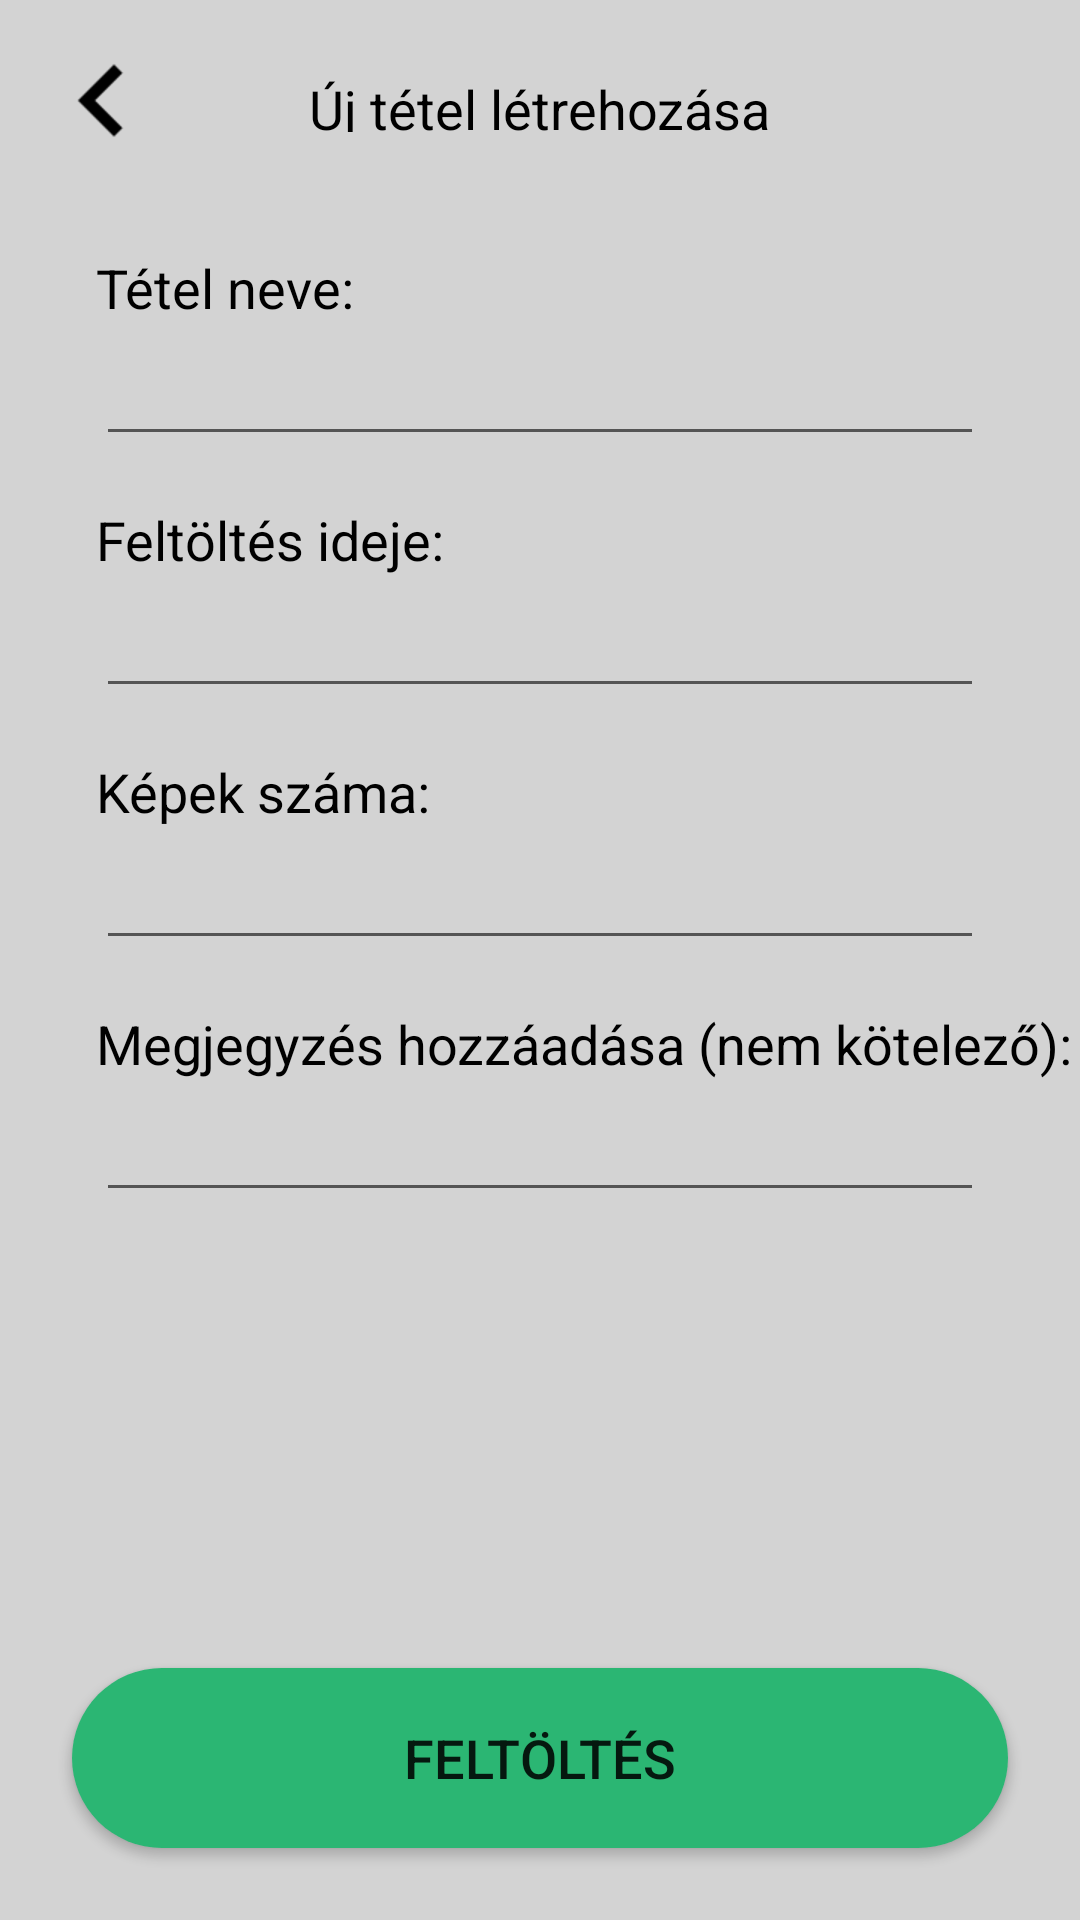

Where to tap for icons on this 1080*1920 app screen, as (x=x, y=y):
back: (x=100, y=100)
